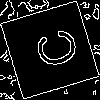C: (25, 25, 80, 75)
